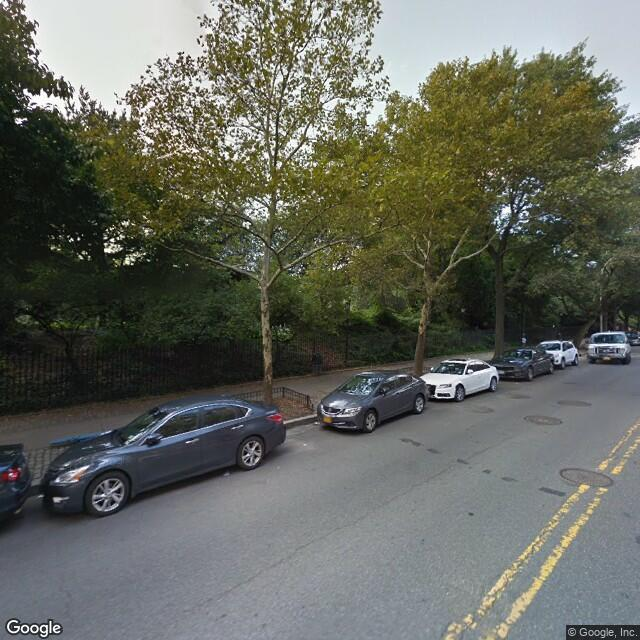litter: (221, 469, 233, 477), (311, 418, 320, 428), (300, 440, 312, 447)
